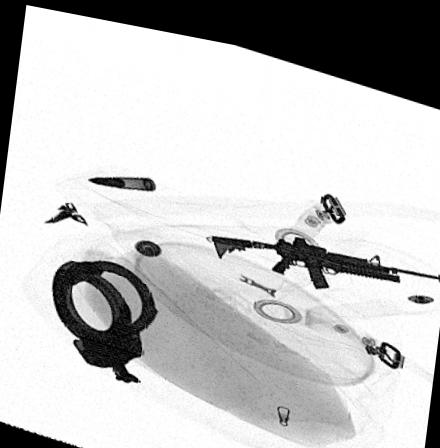Bullet: (86, 172, 156, 185)
Gun: (211, 225, 440, 277)
HandCuffs: (49, 256, 160, 377)
